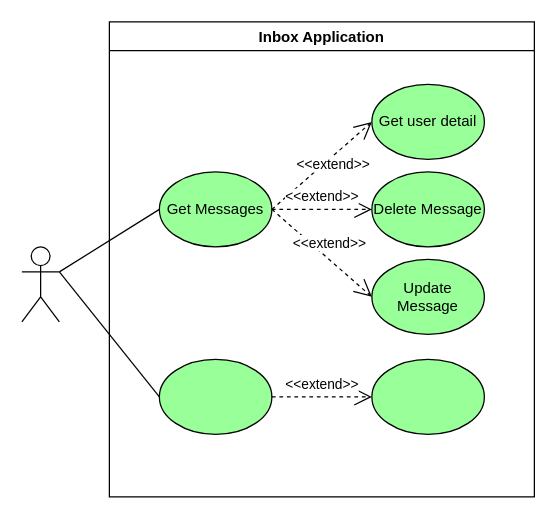
The diagram is 556 pixels wide and 519 high, and some of its shapes have lost their labels. The shapes that lost their labels are listed below. From the top down, each one's centre as x and y in pixels, then its label:
At pixel 40 284: "User".
At pixel 215 396: "Get Favorites Messages".
At pixel 427 396: "Deleted message".
